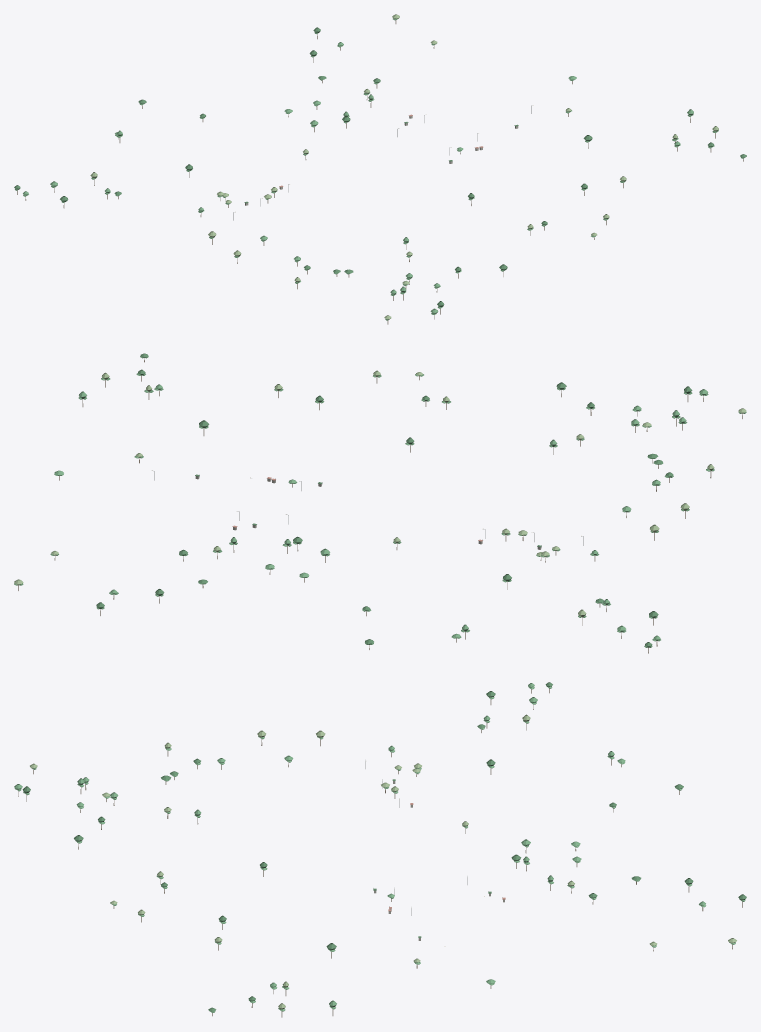
3 renders of one model, top to bottom at view 1: azimuth 30°, elevation 25°; view 2: azimuth 150°, elevation 25°; view 3: azimuth 270°, elevation 25°, orthographic. The views are drawn at different scales.
Parts seen in each view (by area): view 1: Karwan Bazar neighborhood furniture (approximate); view 2: Karwan Bazar neighborhood furniture (approximate); view 3: Karwan Bazar neighborhood furniture (approximate).
Boxes of the visible parts, x1=… form: Karwan Bazar neighborhood furniture (approximate): x1=14, y1=14, x2=746, y2=324; Karwan Bazar neighborhood furniture (approximate): x1=14, y1=353, x2=746, y2=653; Karwan Bazar neighborhood furniture (approximate): x1=14, y1=682, x2=746, y2=1017.
Bounding box in the file's own units: 556 × 12.33 × 526.
